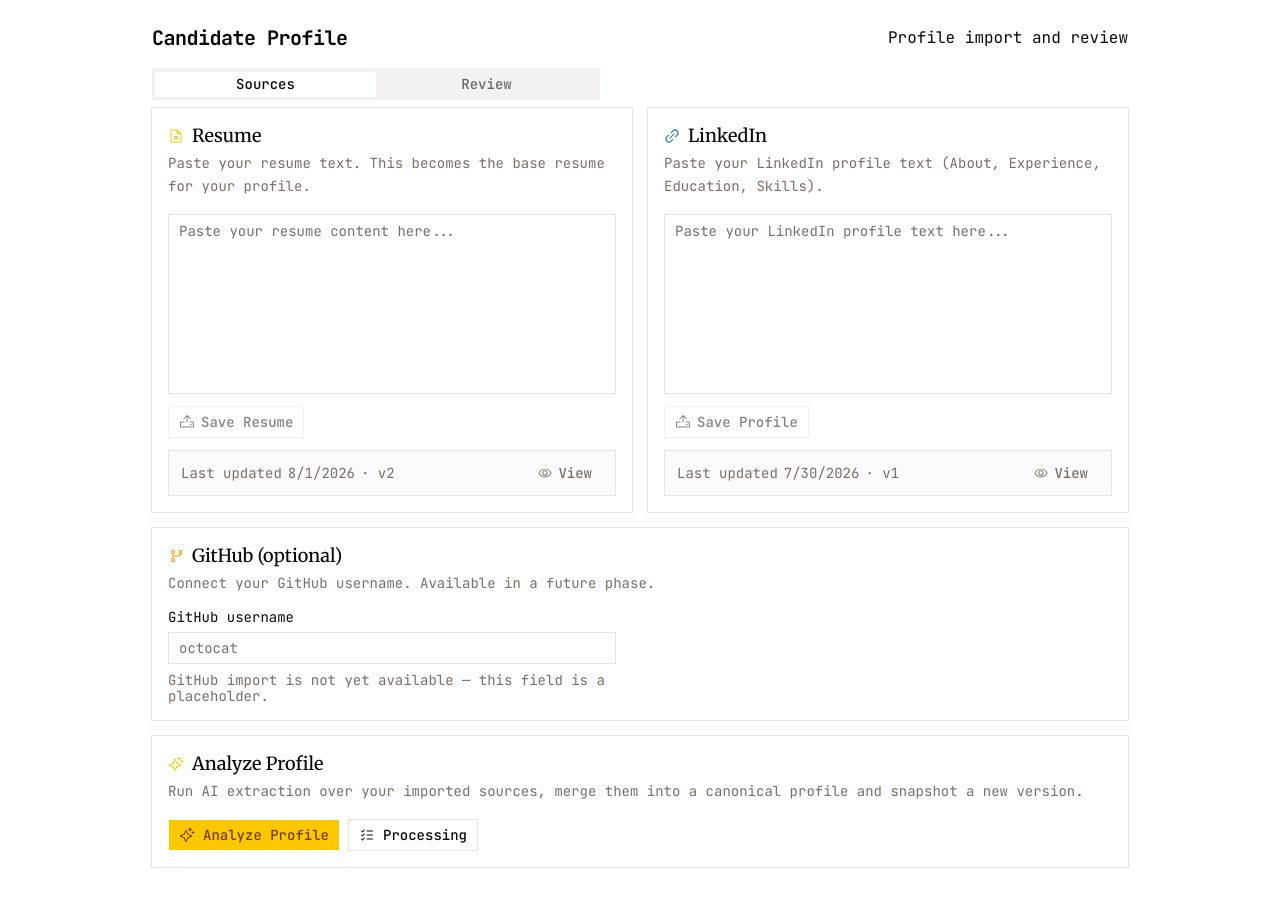
Scenario: ProfileImportPage sources › shows latest resources in the Review tab
Click the tab "Review".
click(486, 84)  # box x1=376 y1=72 x2=597 y2=96
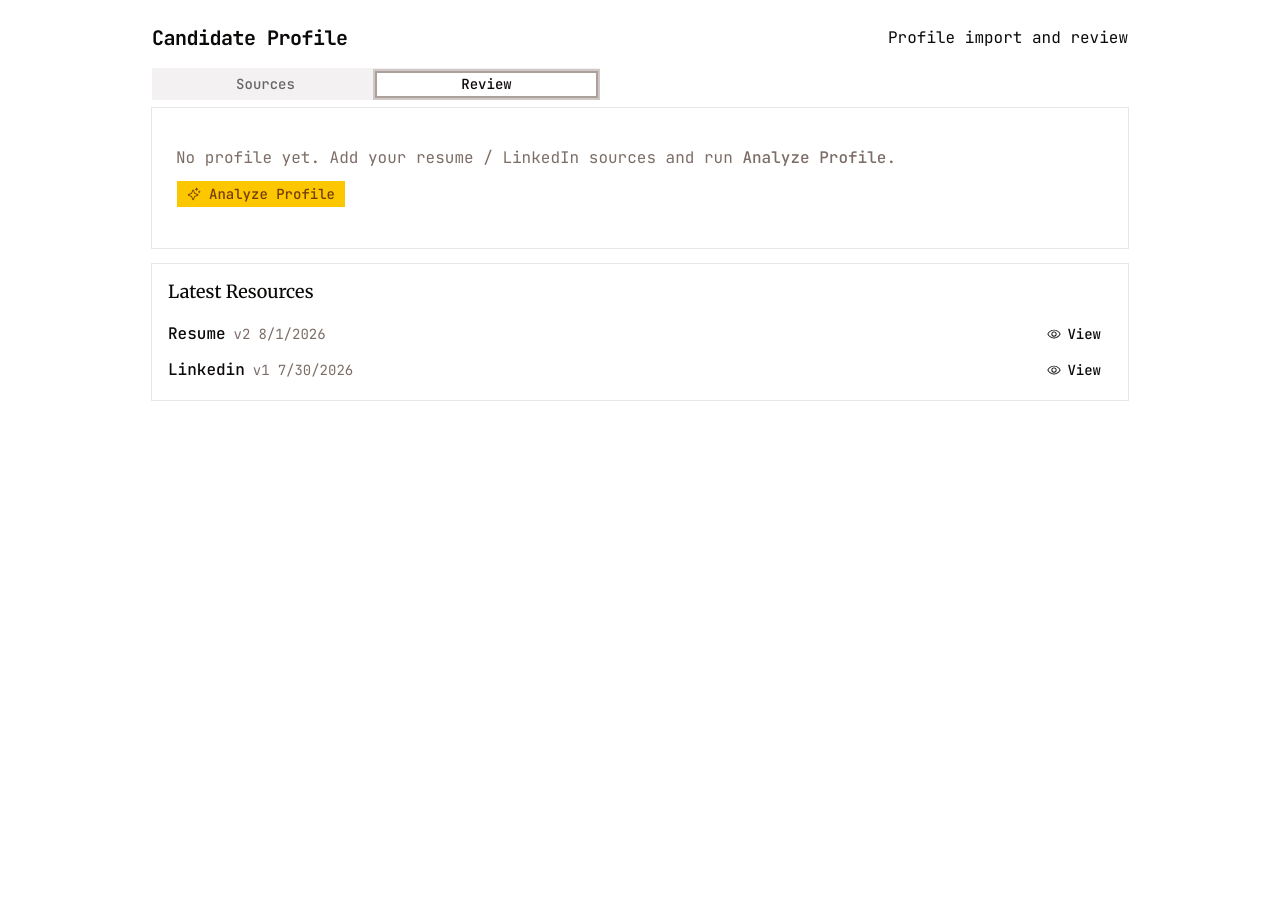
Expected: the text "v2" is shown, x1=234 y1=326 x2=250 y2=342
Now the text "resume" is shown, box x1=168 y1=324 x2=226 y2=344
Now the text "linkedin" is shown, box x1=168 y1=360 x2=245 y2=380
